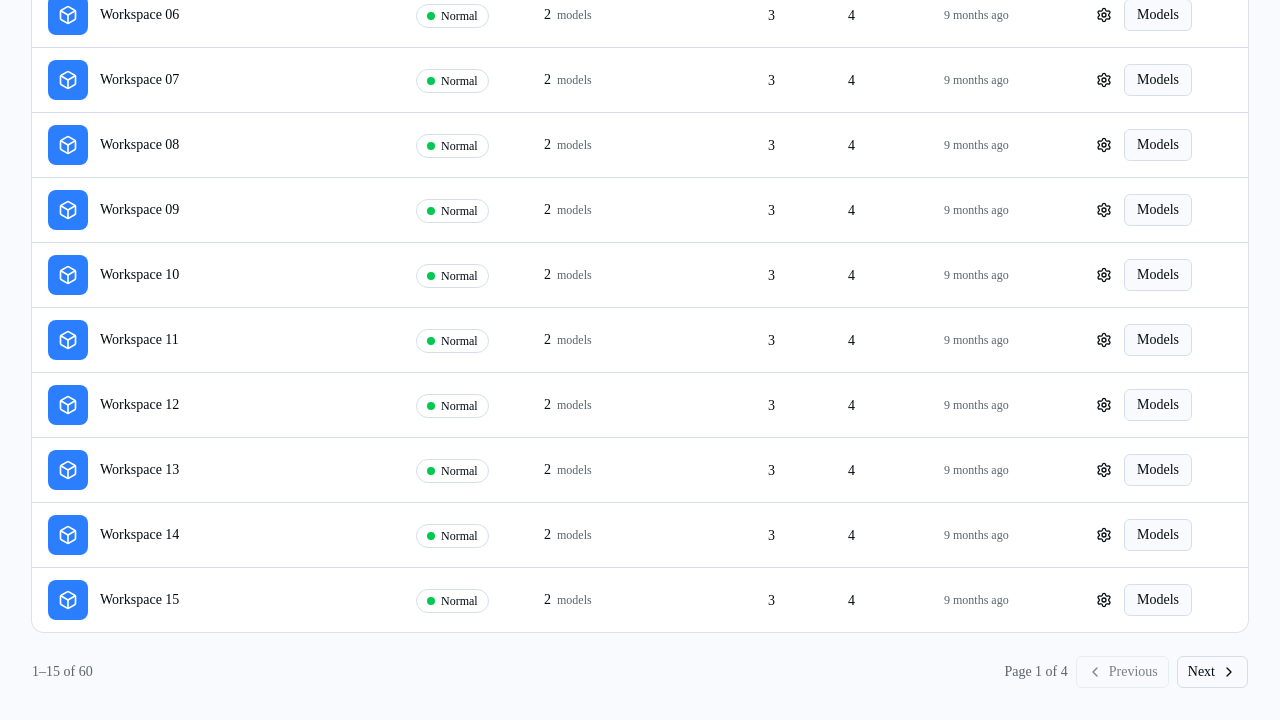
WorkspacesPage › pagination › starts again from page 1 when the search changes
(page scrolled)
Click the button with aria-label "Next page": (1212, 672) [1177,656,1248,688]
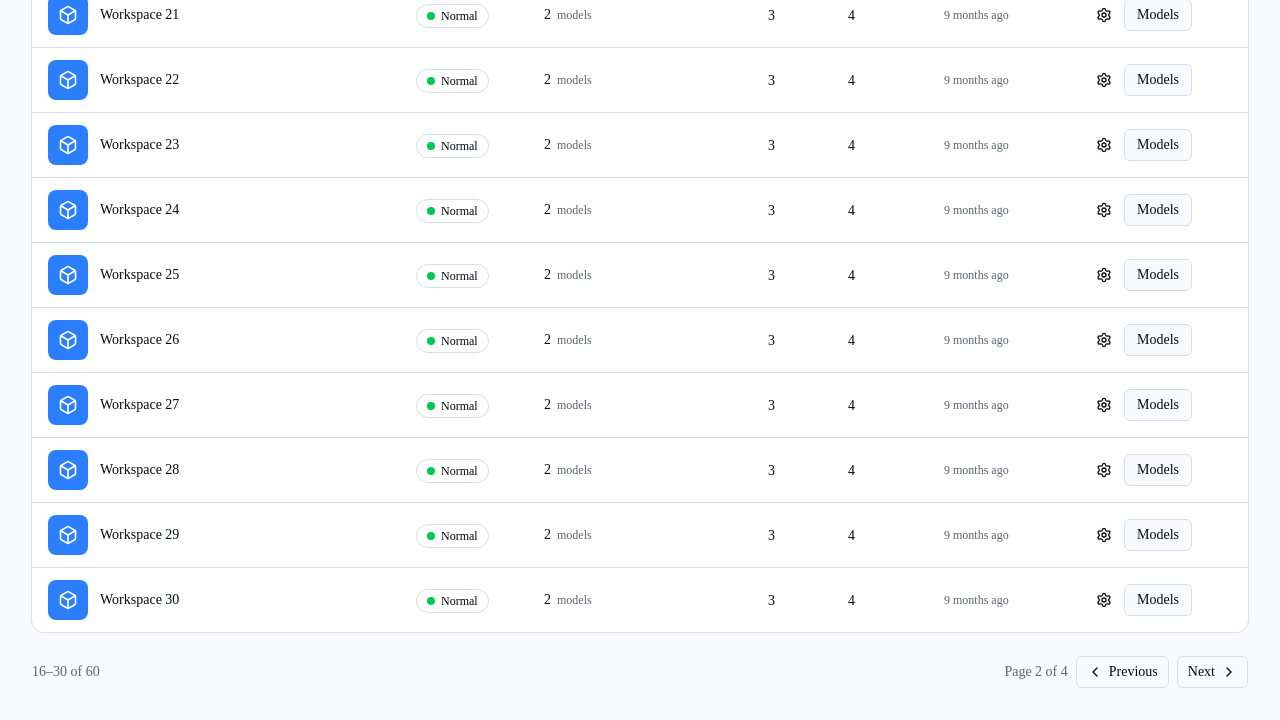
Click the button with aria-label "Next page": (1212, 672) [1177,656,1248,688]
(page scrolled)
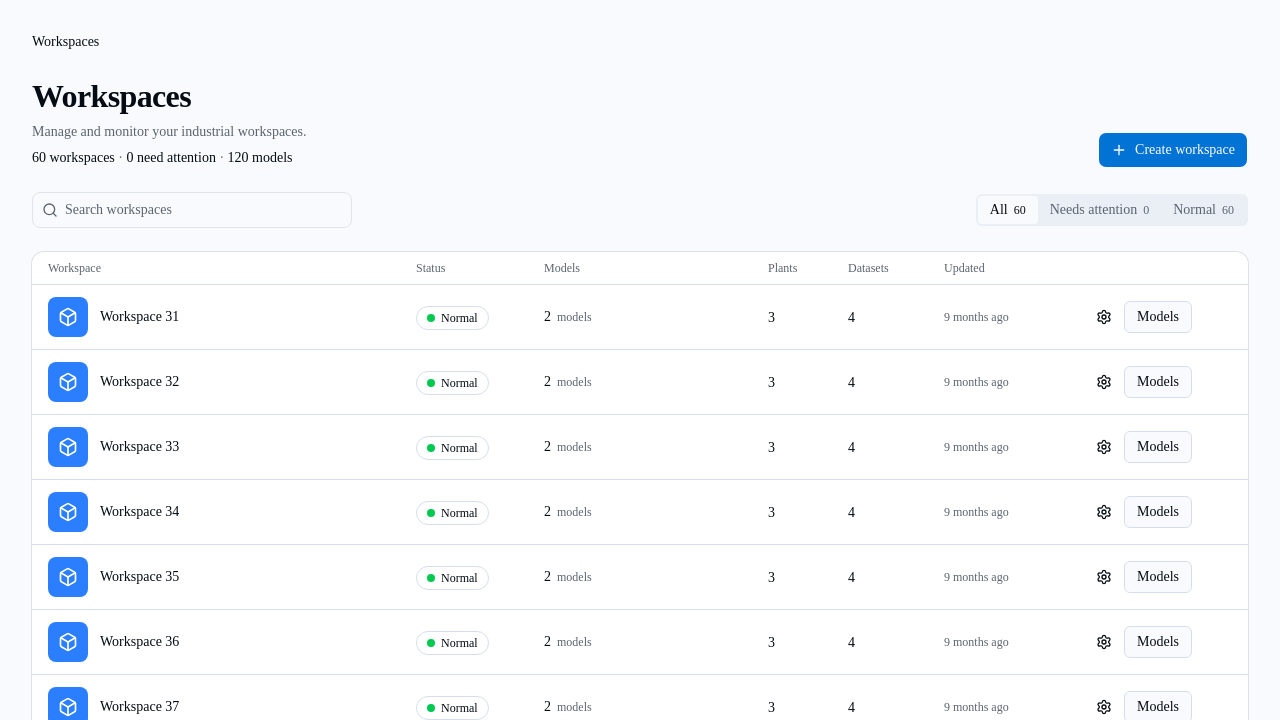
In the field with placeholder "Search workspaces": (192, 210) [32,192,352,228], type "Workspace"
(page scrolled)
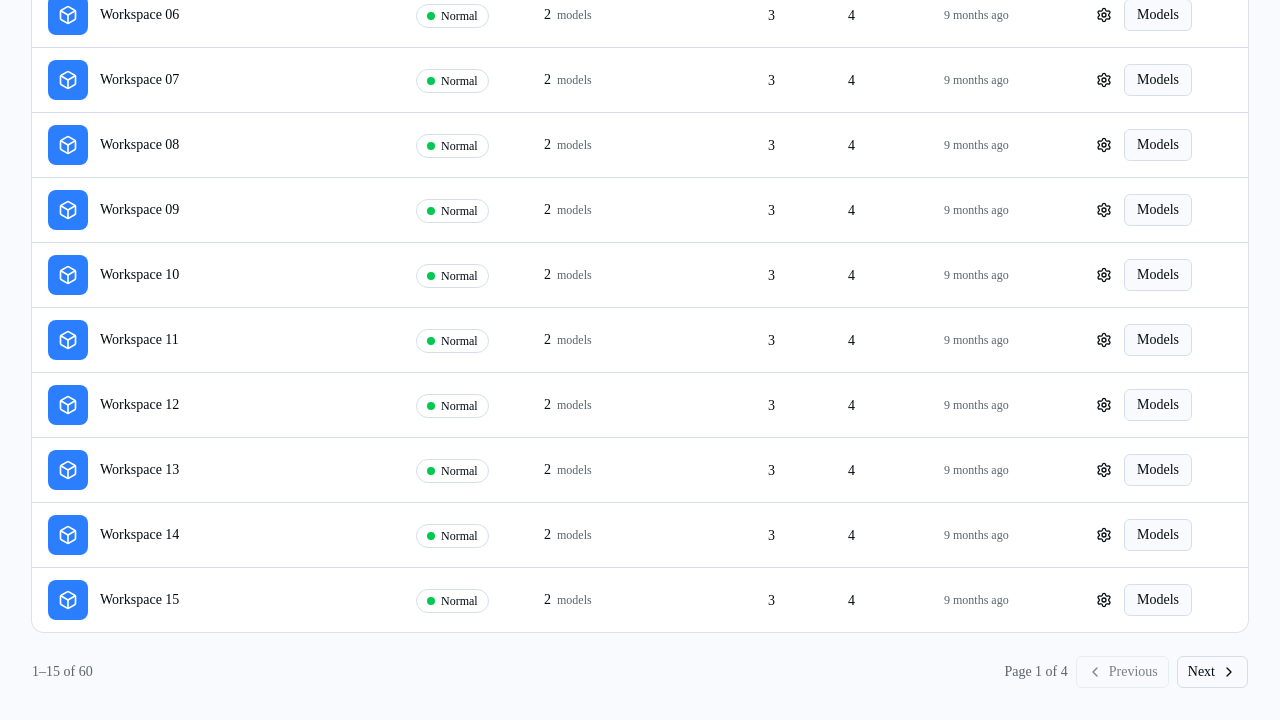
Check: the text "1–15 of 60" is shown, box [32,662,93,682]
